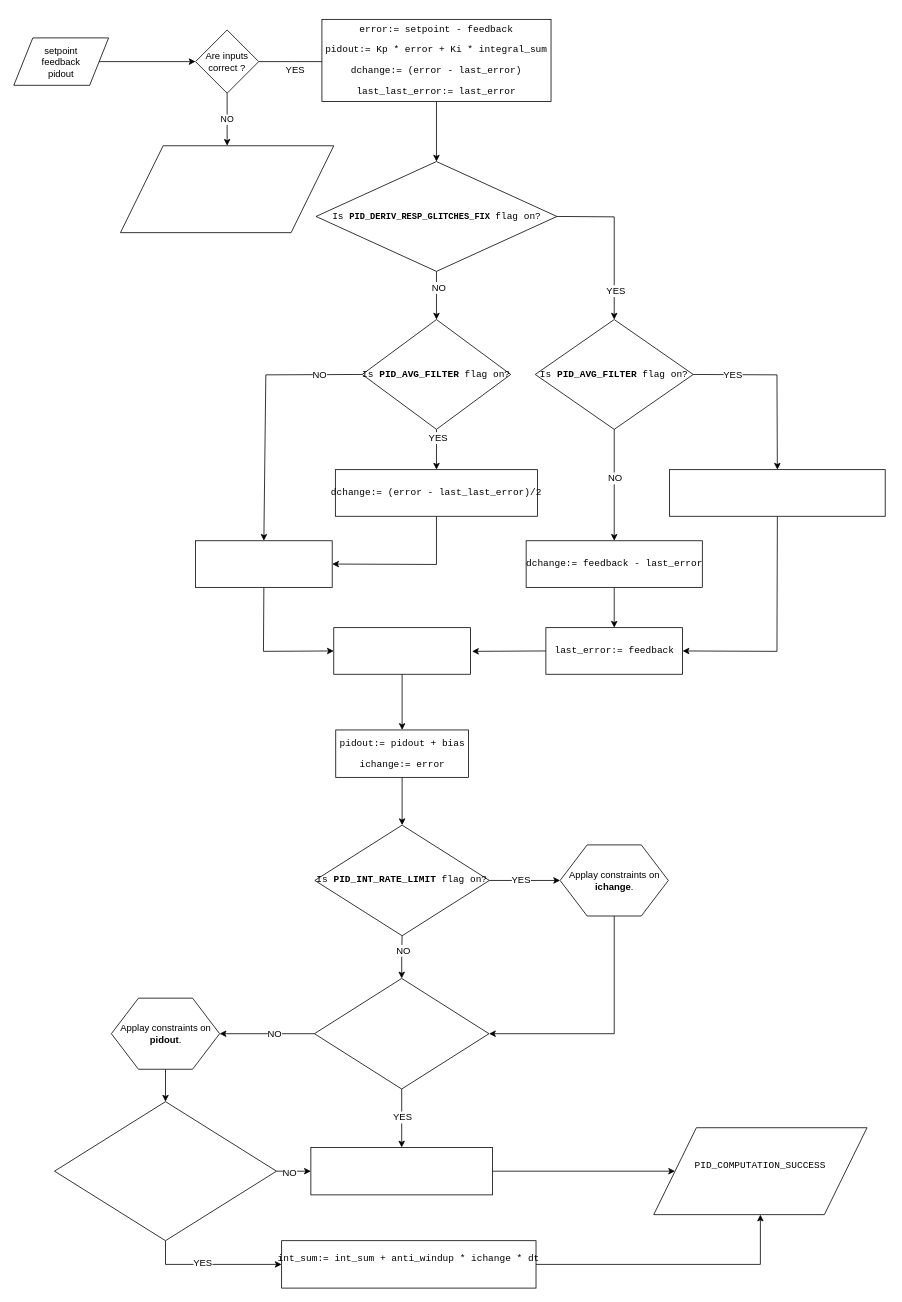
The diagram is 902 pixels wide and 1302 high, and some of its shapes have lost their labels. Here are the shapes that lost their labels. From the top down, the centre of each, then its label:
(227,189): PID_ERROR_SETPOINT_LIMITS or PID_ERROR_FEEDBACK_LIMITS
(777,492): dchange:= (feedback- last_last_error)/2
(263,563): last_error:= error
(401,650): pidout:= Kd * dchange/dt
(401,1033): Is pidout within limits?
(165,1171): Is PID_INT_SOFT_ANTI_WINDUP flag on?
(401,1171): int_sum:= int_sum + ichange * dt
